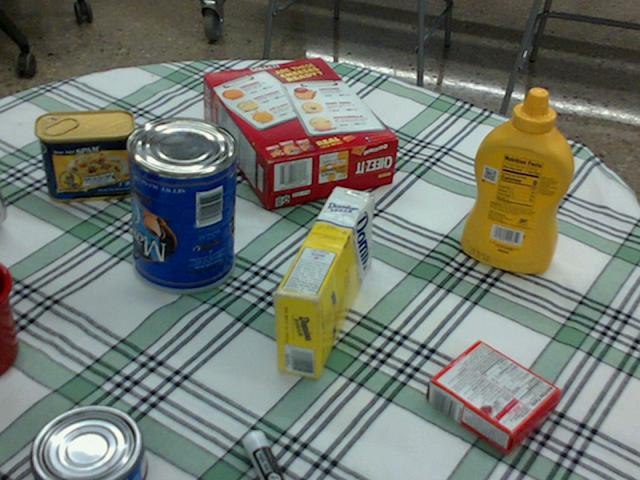cracker_box: (201, 58, 397, 204)
gelatin_box: (426, 341, 558, 455)
large_marker: (242, 431, 284, 479)
master_chef_can: (123, 116, 235, 293)
mug: (0, 260, 15, 369)
mustard_bottle: (460, 88, 573, 272)
potted_meat_can: (36, 109, 137, 202)
sugar_box: (273, 187, 371, 378)
tomato_soup_can: (0, 195, 3, 221)
tuna_fish_can: (27, 405, 143, 479)
